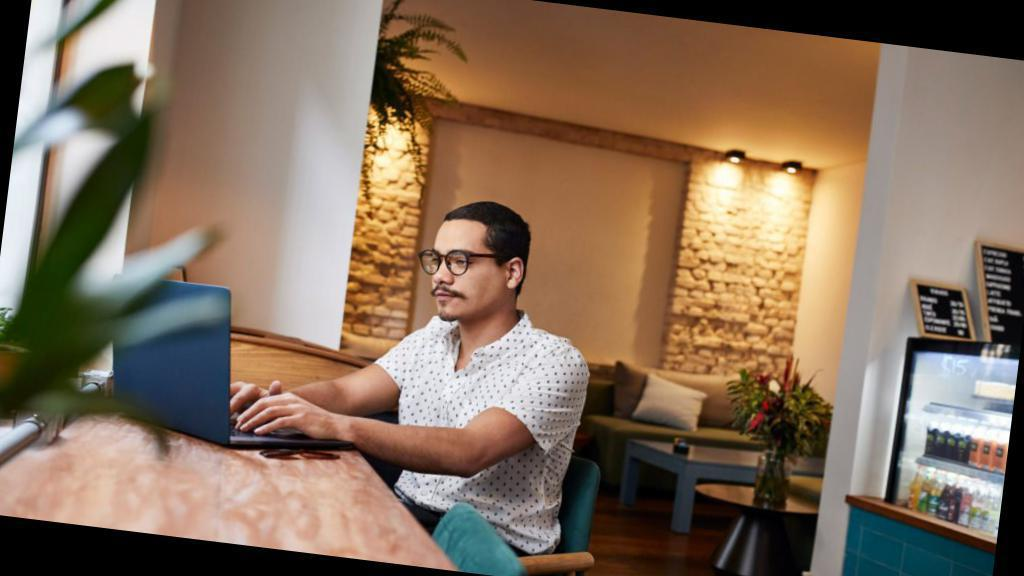Sober: (429, 222, 499, 318)
